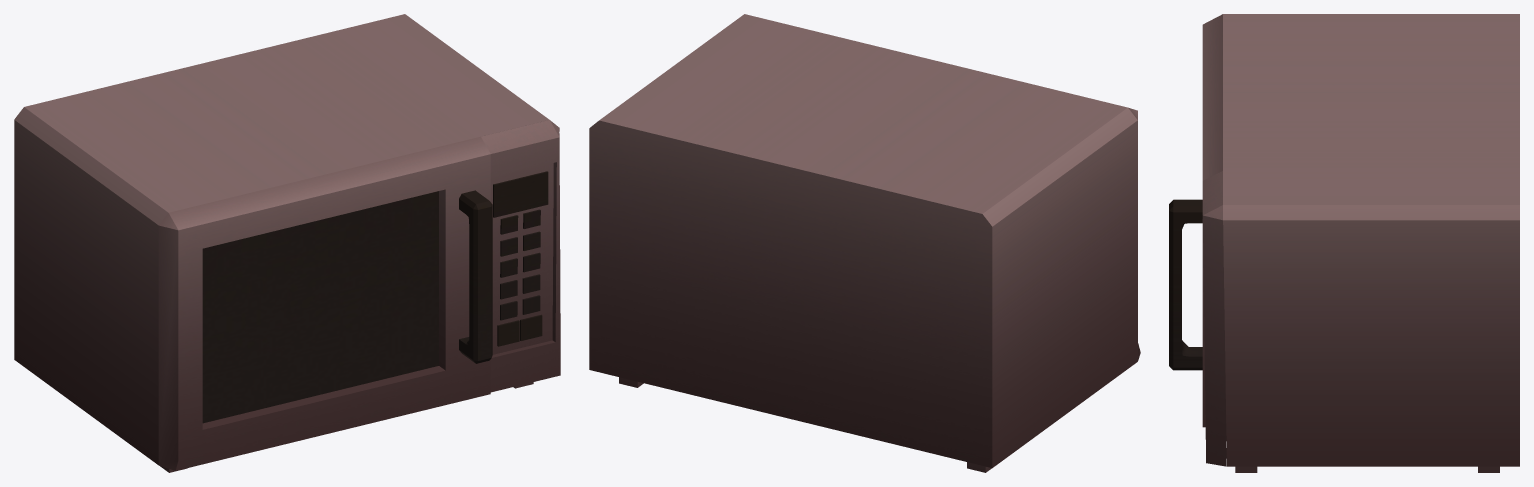
File: microwave.fbx
3 renders of one model, left to right at view 1: azimuth 30°, elevation 25°; view 2: azimuth 150°, elevation 25°; view 3: azimuth 270°, elevation 25°, orthographic. The views are drawn at different scales.
Visible parts, largest first — view 1: microwave2, microwavedoor; view 2: microwave2; view 3: microwave2, microwavedoor.
Boxes of the visible parts, x1,y1,x2,y2 form: microwave2: (14, 14, 560, 472); microwavedoor: (158, 136, 492, 470); microwave2: (589, 14, 1137, 472); microwave2: (1202, 14, 1519, 472); microwavedoor: (1169, 14, 1222, 427).
Bounding box in the file's own units: 2.04 × 1.3 × 1.51.
